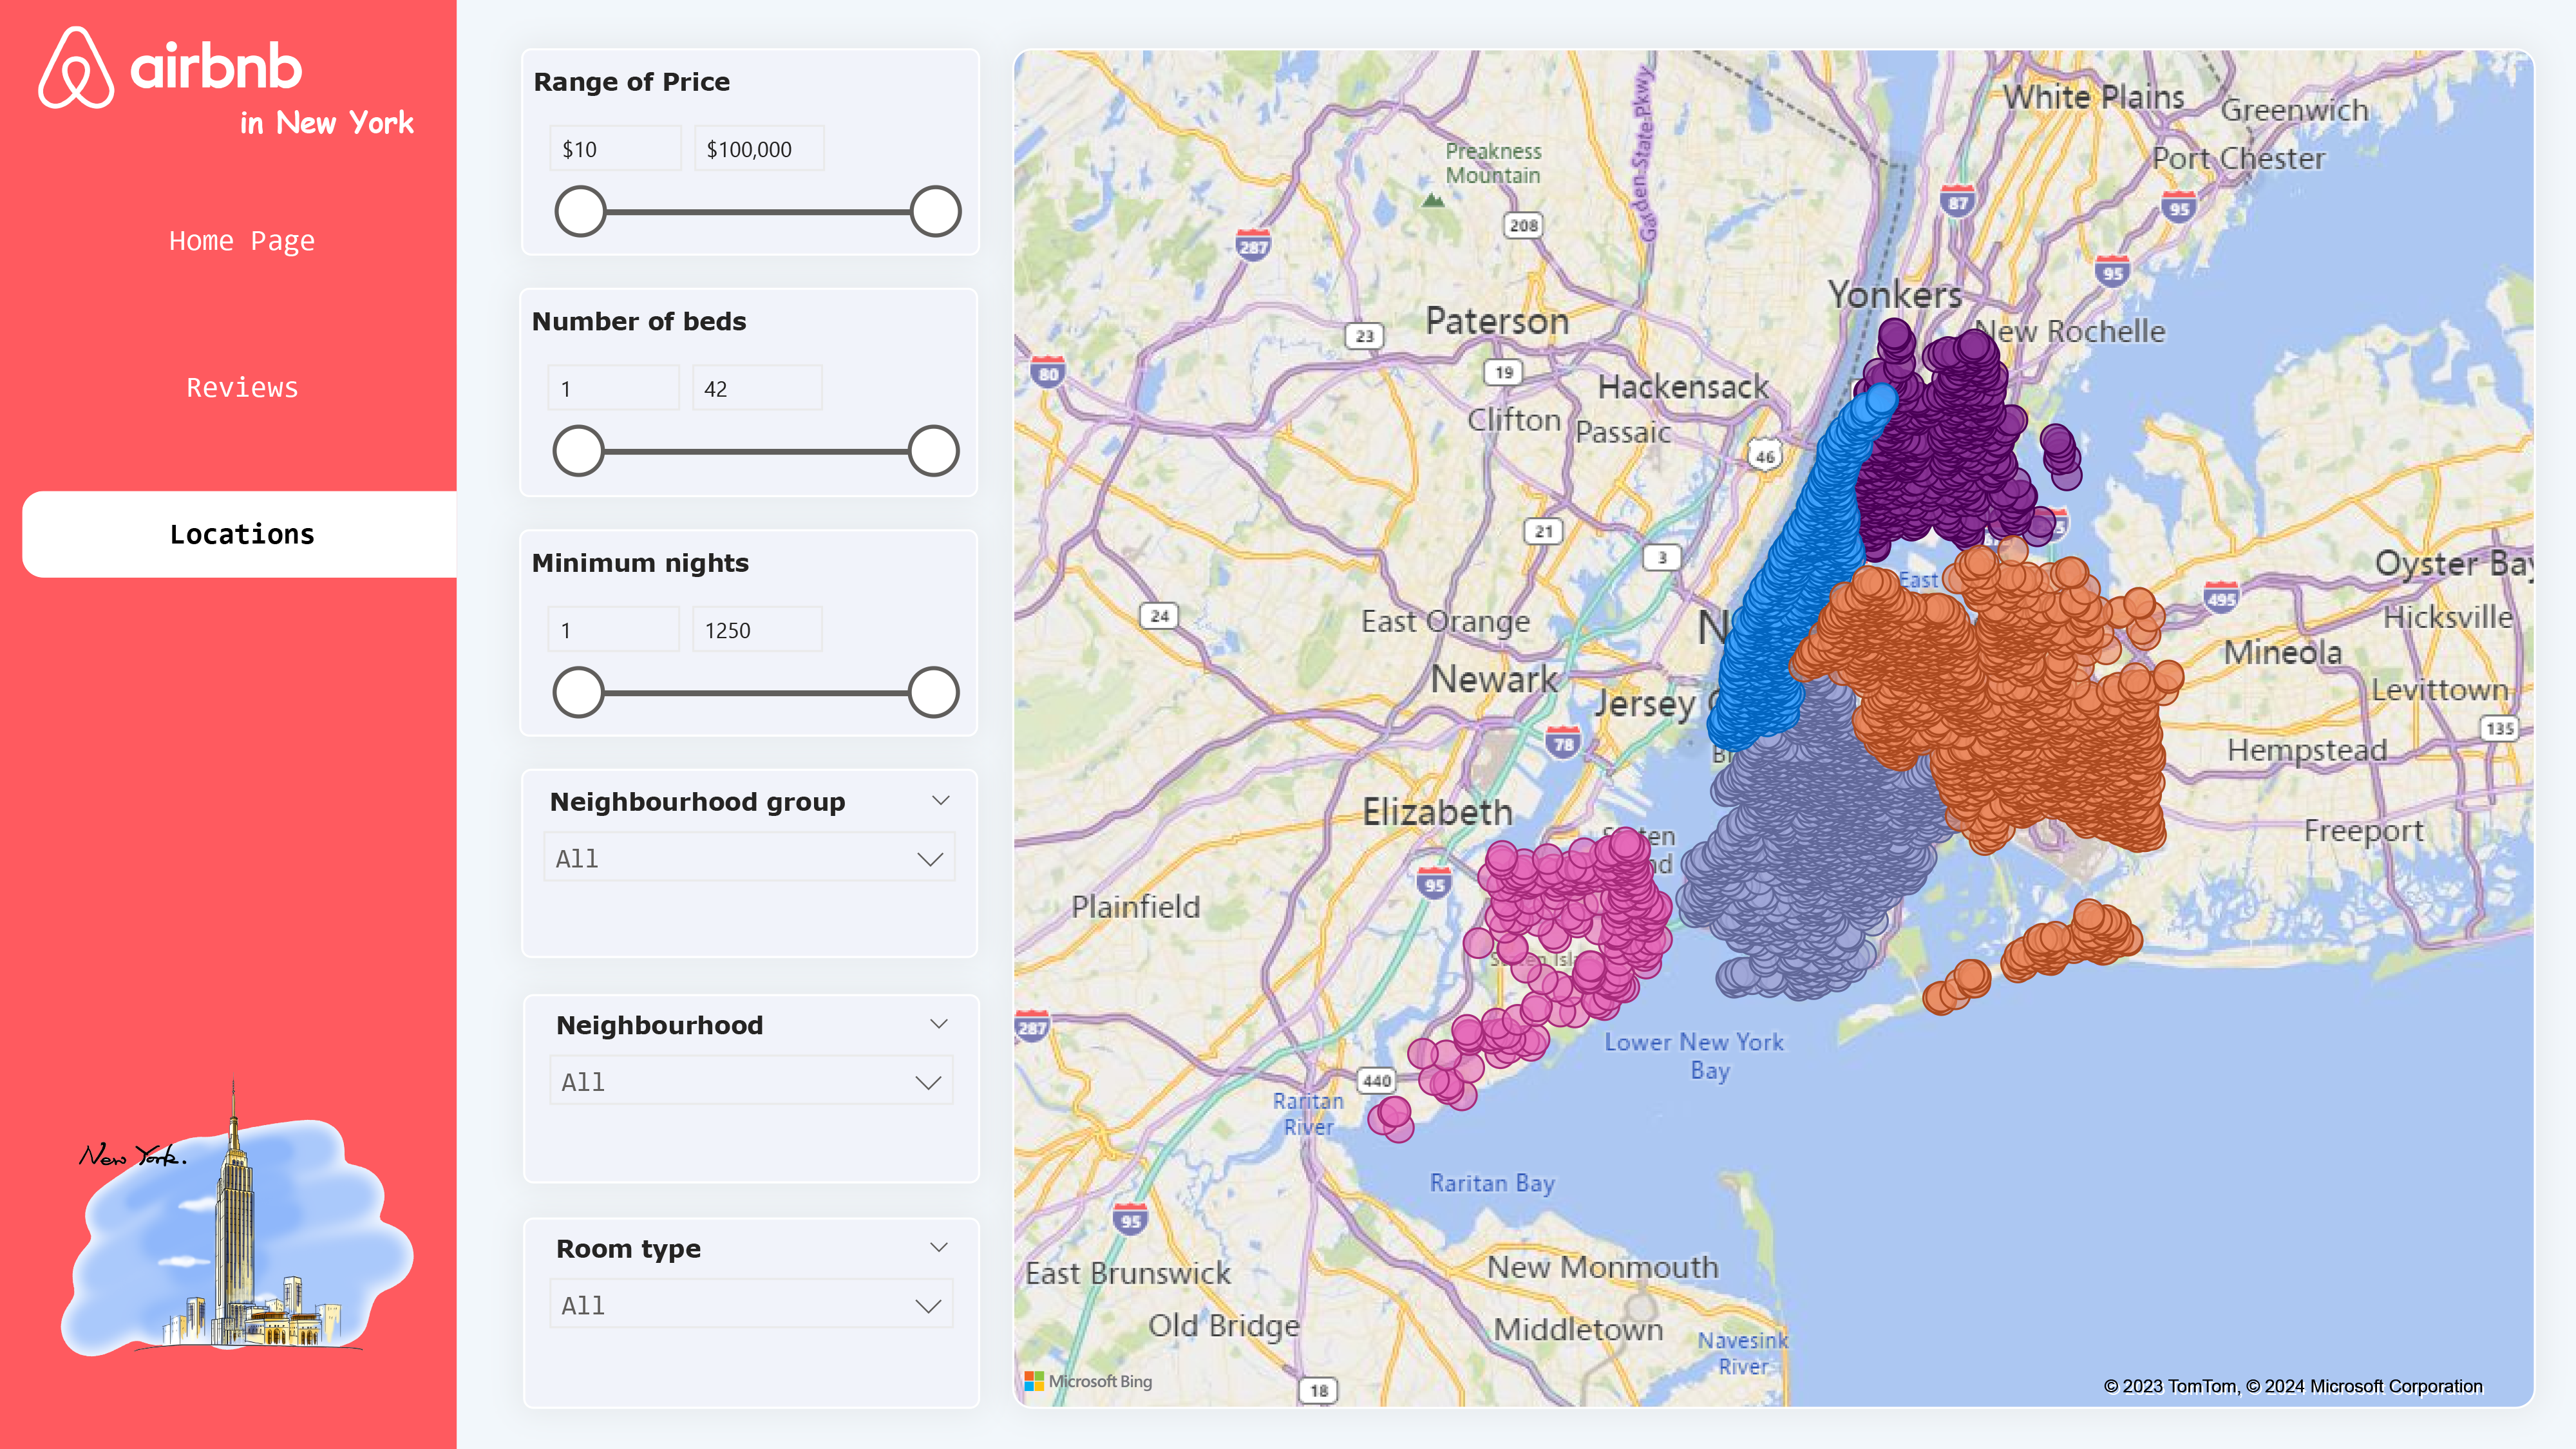

Layout of this report page (visuals, bound fields, positions):
{"tool":"powerbi","page":{"name":"Locations","canvas":[1280,720],"ordinal":2},"visuals":[{"type":"shape","box":[0,0,227,720],"z":0,"group":"g1"},{"type":"map","title":"Number of rooms","fields":{"Y":["main-table.latitude"],"X":["main-table.longitude"],"Series":["main-table.neighbourhood_group"]},"box":[502.7,23.9,757.5,675.6],"z":0},{"type":"image","box":[10.2,8,149,51.2],"z":1000,"group":"g1"},{"type":"slicer","title":"Number of rooms","fields":{"Values":["location.neighbourhood_group"]},"box":[259.3,382.2,226.4,94],"z":1000},{"type":"pageNavigator","box":[11,98,216,190],"z":2000,"group":"g1"},{"type":"slicer","title":"Number of rooms","fields":{"Values":["location.neighbourhood"]},"box":[260.5,493.6,226.4,94.4],"z":2000},{"type":"slicer","title":"Range of Price","fields":{"Values":["main-table.price"]},"box":[259.3,23.9,227.5,103.5],"z":3000},{"type":"group","id":"g1","title":"Group 3","box":[0,0,227,720],"z":4000},{"type":"slicer","title":"Number of beds","fields":{"Values":["main-table.beds"]},"box":[258.2,143.3,227.5,103.5],"z":5000},{"type":"image","box":[0,523,227,158],"z":6000,"group":"g1"},{"type":"slicer","title":"Number of rooms","fields":{"Values":["main-table.room_type"]},"box":[260.5,605.1,226.4,94.4],"z":6000},{"type":"slicer","title":"Minimum nights","fields":{"Values":["main-table.minimum_nights"]},"box":[258.2,262.7,227.5,103.5],"z":7000},{"type":"textbox","box":[113.8,45,106.2,32.5],"z":9003,"group":"g1"}]}

Visuals, with their boxes in screenshot pixels (x1, y1, x2, y2), scaled from the page's 1280x720 canvas onto the 2576x1449 screenshot:
shape: [0, 0, 457, 1448]
"Number of rooms" map: [1012, 48, 2536, 1408]
image: [21, 16, 320, 119]
"Number of rooms" slicer: [522, 769, 978, 958]
pageNavigator: [22, 197, 457, 580]
"Number of rooms" slicer: [524, 993, 980, 1184]
"Range of Price" slicer: [522, 48, 980, 256]
"Group 3" group: [0, 0, 457, 1448]
"Number of beds" slicer: [520, 289, 978, 497]
image: [0, 1052, 457, 1370]
"Number of rooms" slicer: [524, 1218, 980, 1408]
"Minimum nights" slicer: [520, 529, 978, 737]
textbox: [229, 91, 443, 156]
